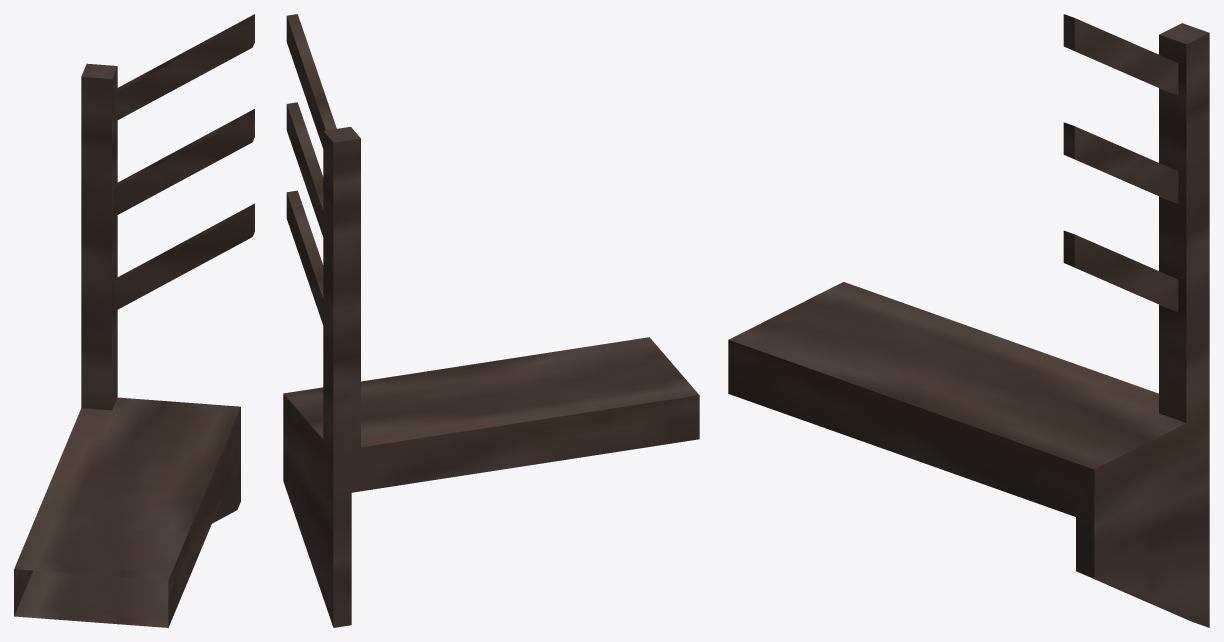
3 views of the same model, side by side, from view 1: azimuth 30°, elevation 25°; view 2: azimuth 150°, elevation 25°; view 3: azimuth 270°, elevation 25° (orthographic). The views are drawn at different scales.
Parts seen in each view (by area): view 1: esc_r013_Wood_06002_0; view 2: esc_r013_Wood_06002_0; view 3: esc_r013_Wood_06002_0.
Boxes of the visible parts, x1,y1,x2,y2 form: esc_r013_Wood_06002_0: [14, 14, 254, 627]; esc_r013_Wood_06002_0: [283, 14, 699, 627]; esc_r013_Wood_06002_0: [728, 14, 1209, 627].
Bounding box in the file's own units: 0.7555 × 1.24 × 0.8057.
Materials: 1 (1 with a texture image).
